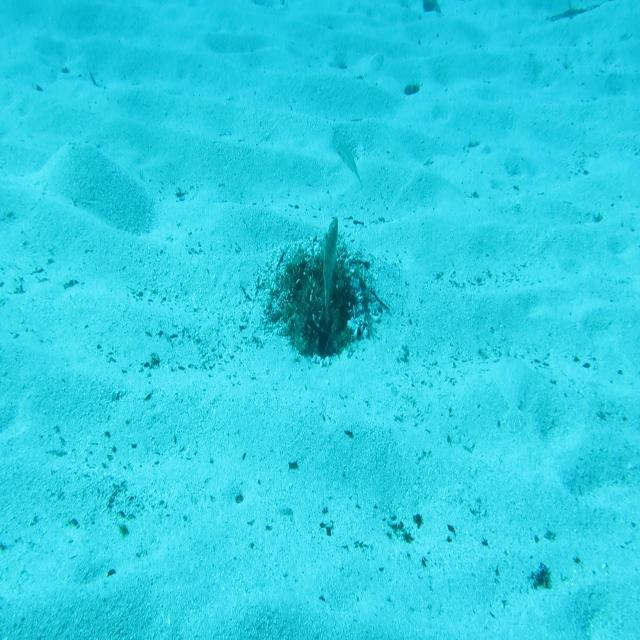H_UP: (315, 217, 341, 334)
female: (334, 141, 364, 187)
nest: (272, 228, 376, 351)
